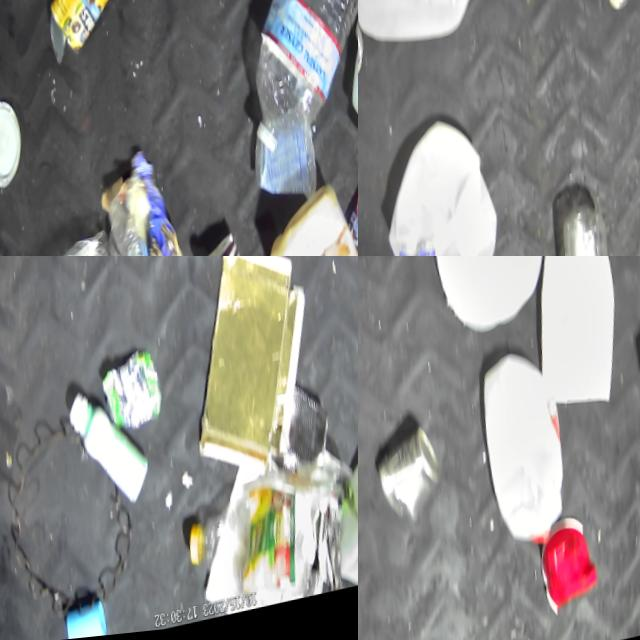can: (96, 349, 171, 447), (375, 423, 447, 525), (268, 388, 339, 487), (39, 0, 120, 66), (588, 0, 640, 25)
milk_jug: (473, 352, 581, 570), (375, 110, 515, 256), (525, 256, 635, 427), (424, 256, 556, 353), (358, 0, 505, 64), (325, 440, 358, 602)
plastic_bottle: (179, 477, 326, 622), (230, 0, 358, 165), (545, 190, 626, 256)
